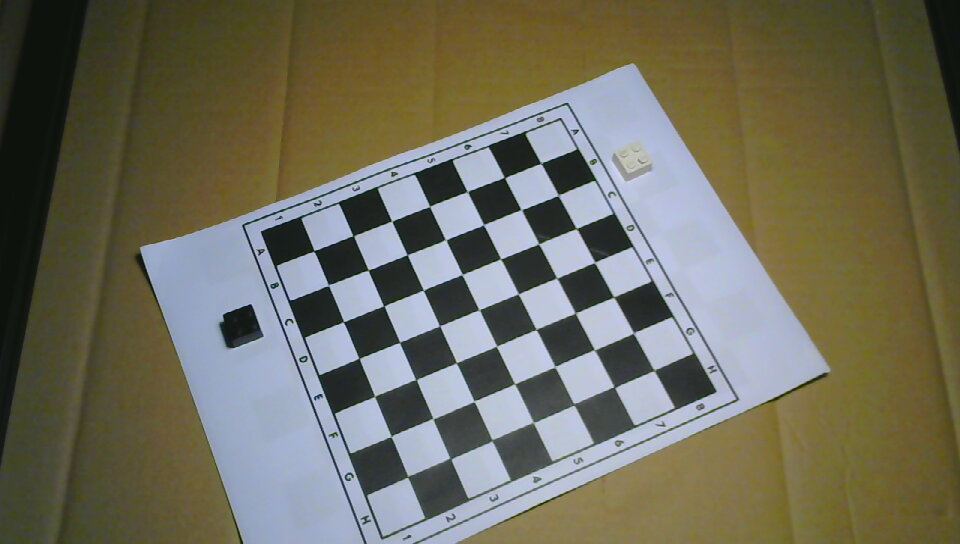bp: (222, 304, 264, 348)
wp: (611, 140, 654, 181)
